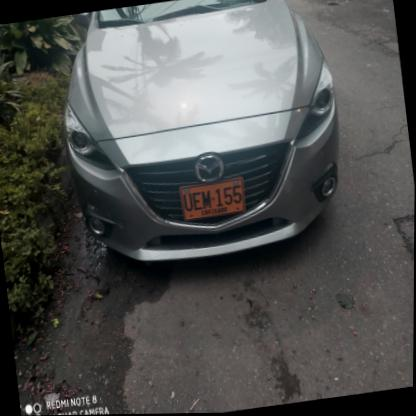placa: (176, 176, 251, 223)
